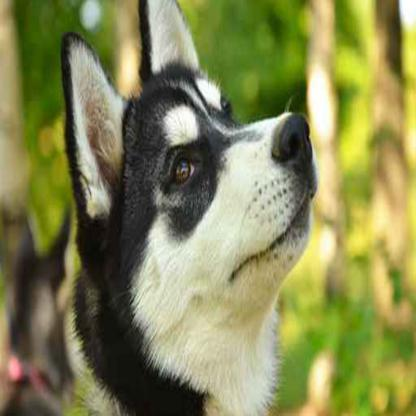dog: (55, 12, 317, 416)
